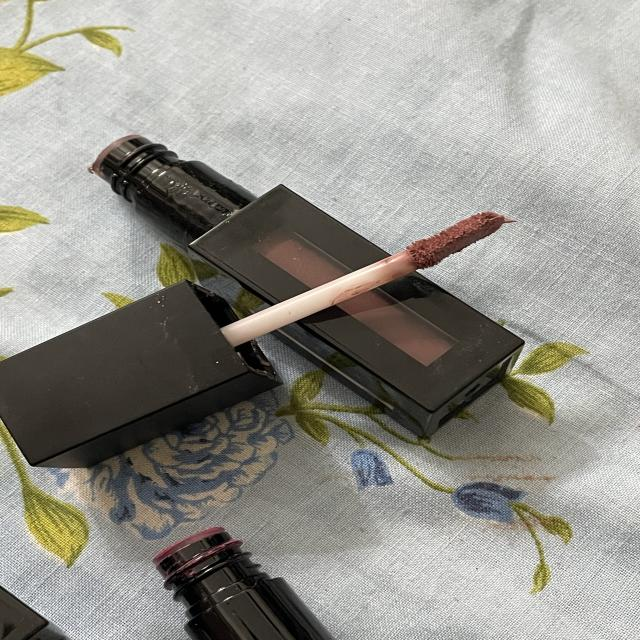lip gloss: (0, 121, 576, 478), (358, 186, 546, 323)
